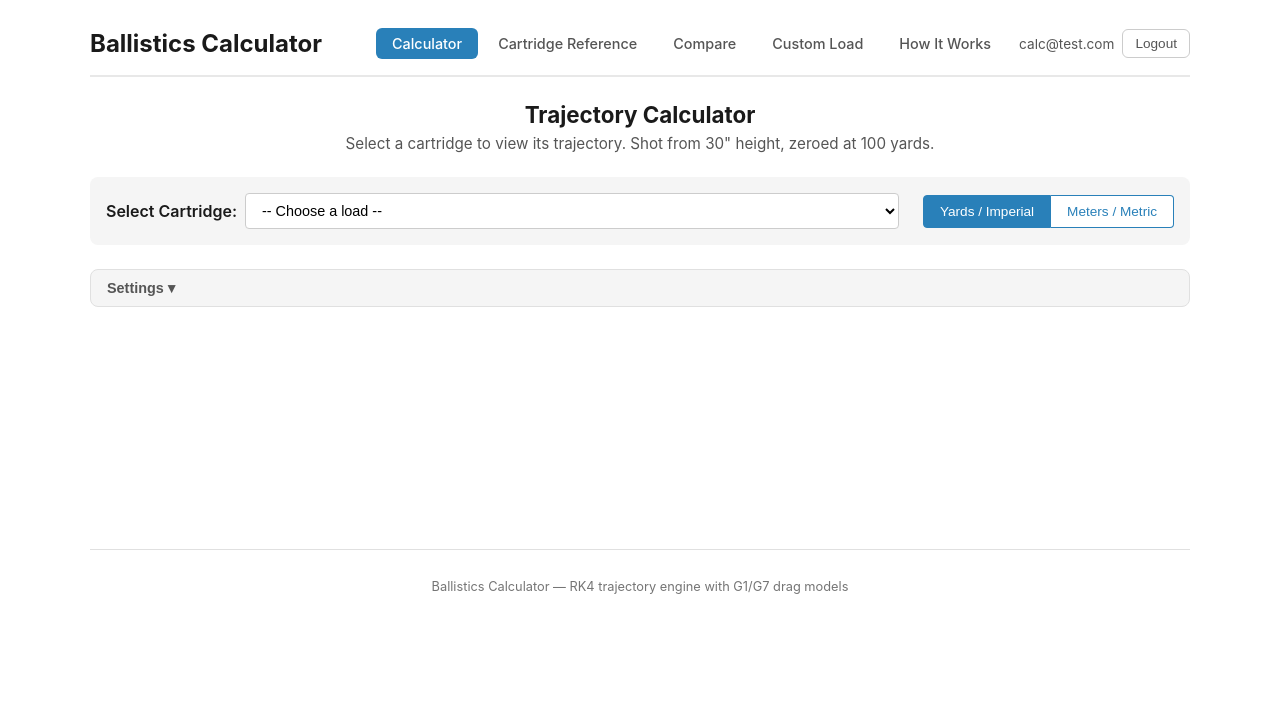
Test case: Calculator › shows error when trajectory calculation fails
Select ".308 Win 168gr BTHP (168gr BTHP)" in the dropdown labelled "Select Cartridge:" at x=572, y=211, box [245, 193, 899, 229]
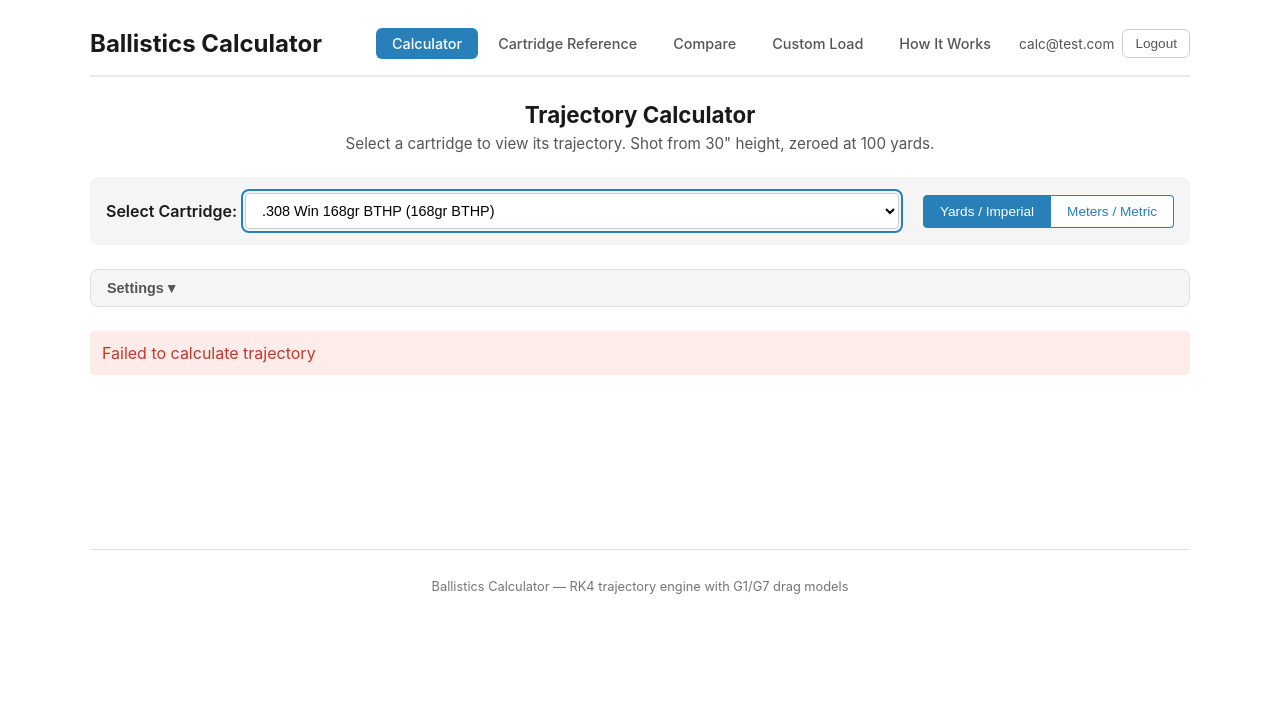
Expected: the message reads "Failed to calculate trajectory", [102, 343, 316, 363]
